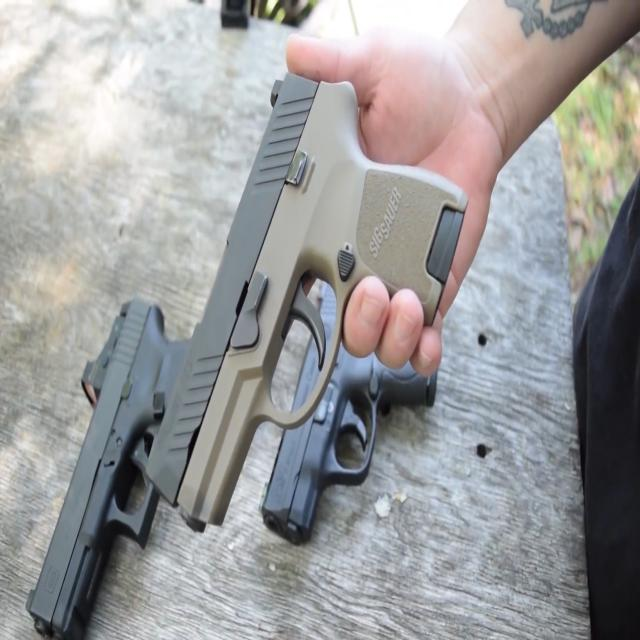handgun: (120, 76, 478, 529), (0, 282, 237, 639), (258, 224, 447, 554)
